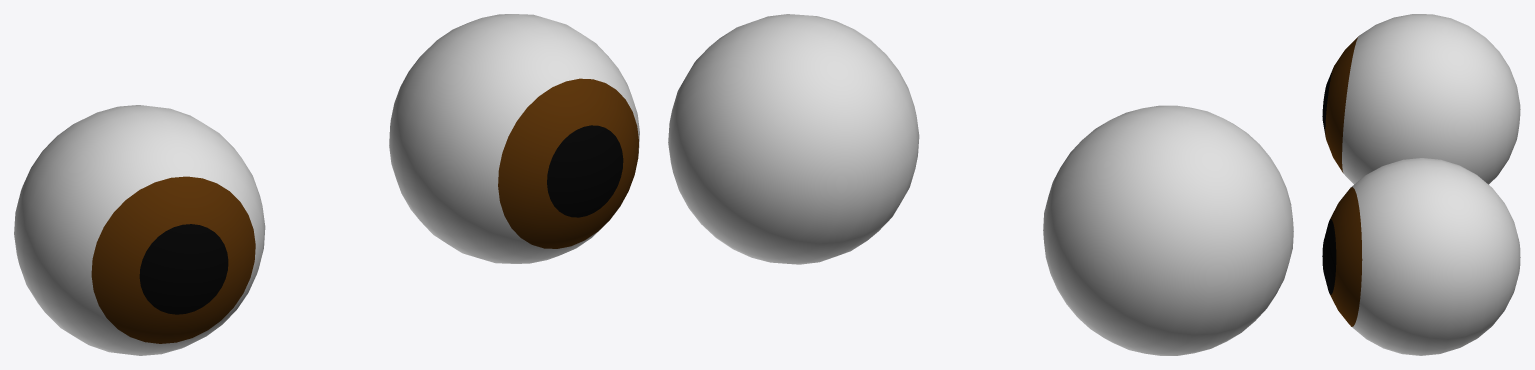
The picture shows the model from 3 angles, left to right: view 1: azimuth 30°, elevation 25°; view 2: azimuth 150°, elevation 25°; view 3: azimuth 270°, elevation 25°; orthographic projection. The views are drawn at different scales.
Parts seen in each view (by area): view 1: Sphere; view 2: Sphere; view 3: Sphere.
Part boxes in pixels (<box>): Sphere: <box>14,14,639,355</box>; Sphere: <box>668,14,1293,355</box>; Sphere: <box>1322,14,1520,355</box>.
Size of the model in its own units: 0.2439 by 0.0895 by 0.0896.
